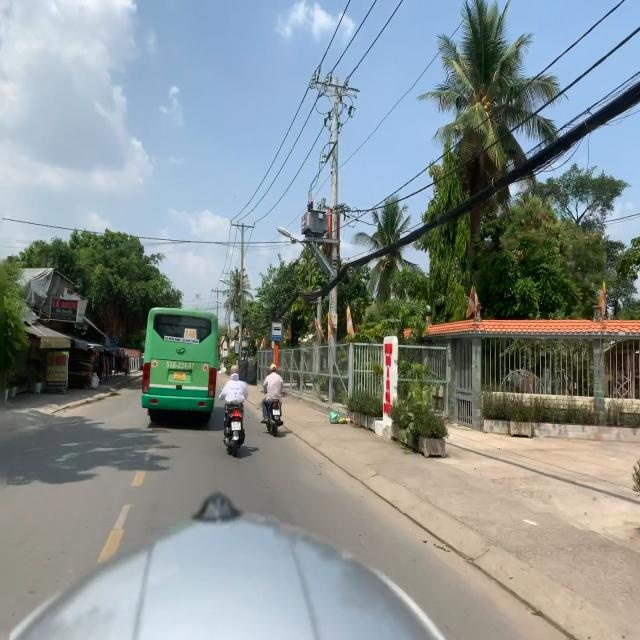bien_chi_dan: (272, 322, 282, 341)
